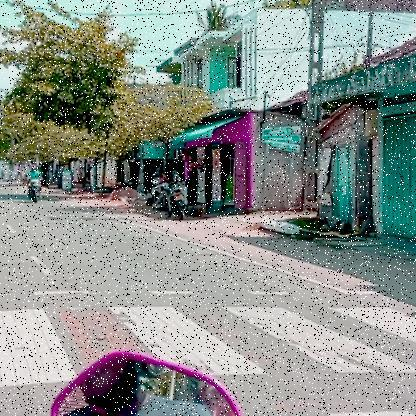motorcycle: (22, 178, 42, 206)
